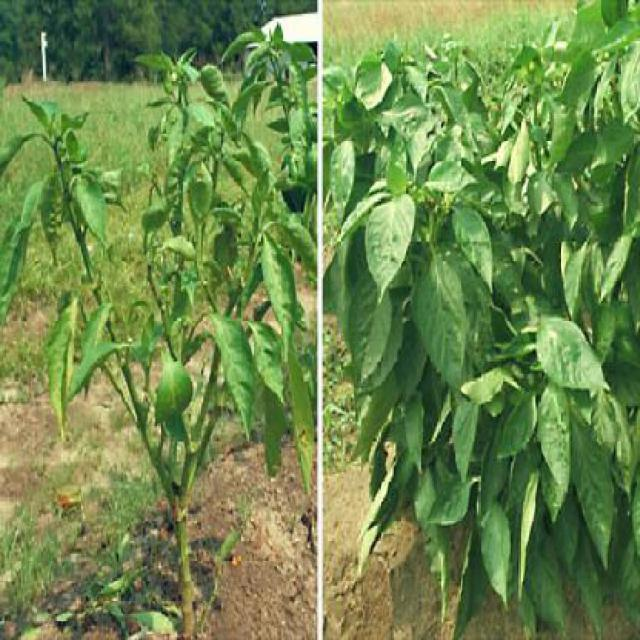Tomato late blight leaf: (550, 380, 616, 566), (404, 236, 470, 384), (534, 312, 612, 400), (212, 310, 262, 444), (363, 186, 417, 308), (277, 331, 317, 494), (262, 215, 304, 358), (42, 288, 78, 452), (451, 202, 498, 306), (478, 491, 514, 611), (448, 376, 483, 490), (540, 382, 571, 500), (157, 352, 194, 446), (431, 466, 480, 536), (70, 168, 112, 248), (560, 234, 592, 314), (183, 108, 222, 136)
